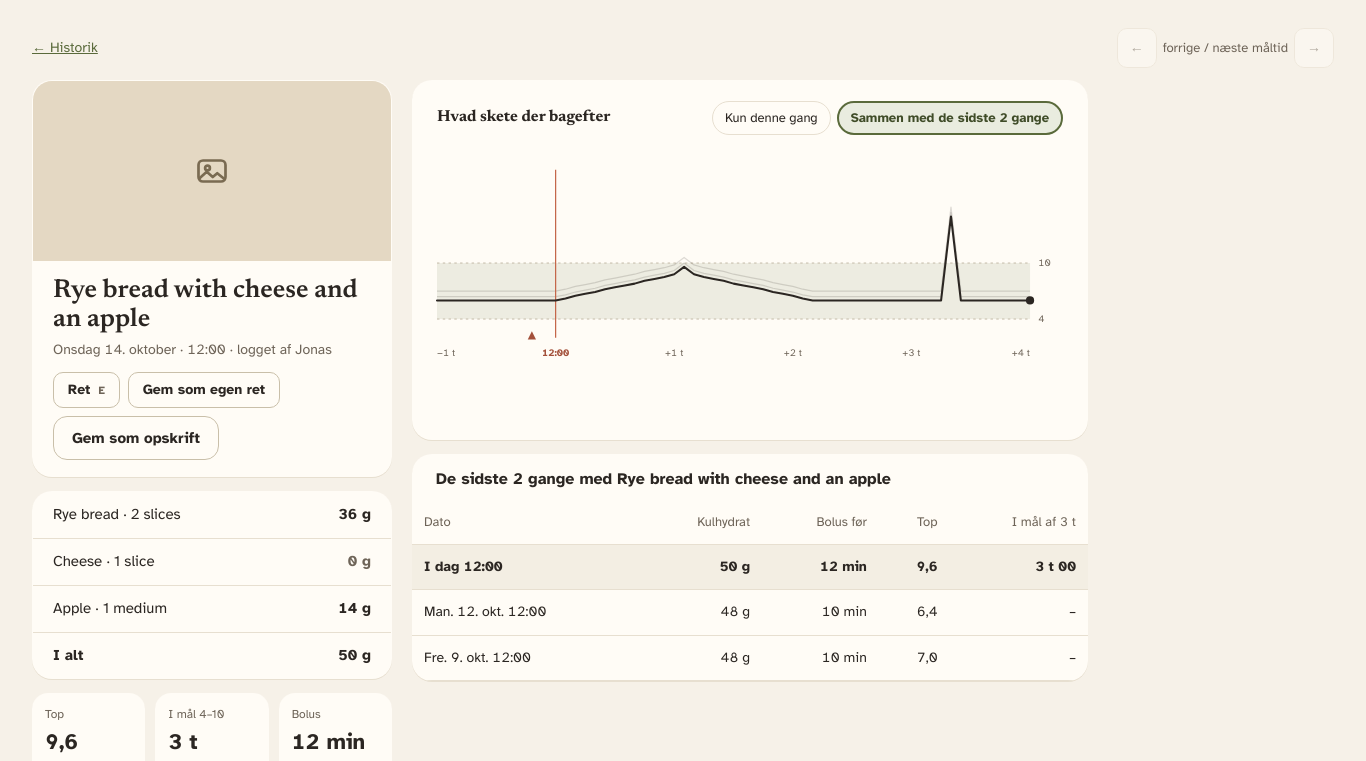
Scenario: edit and delete inside meal detail › desktop: edits current portions, typed carbs, time and note and refreshes detail without navigation
Click the button "Ret E". click: coordinates (86, 390)
box: [53, 372, 120, 408]
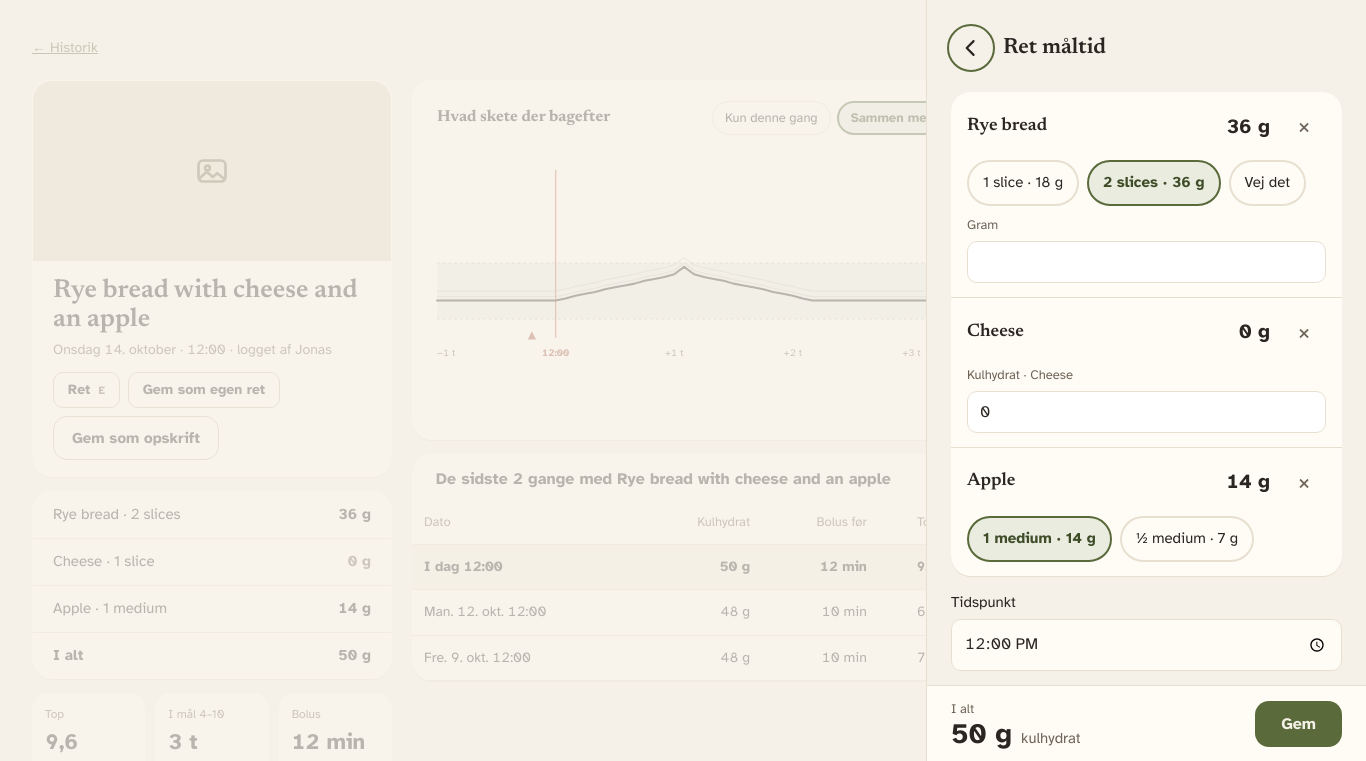
Result: the button named "Tilbage" is shown at [951, 28, 991, 68]
Click the button "½ medium · 7 g". click: coordinates (1187, 539)
box: [1120, 516, 1254, 562]
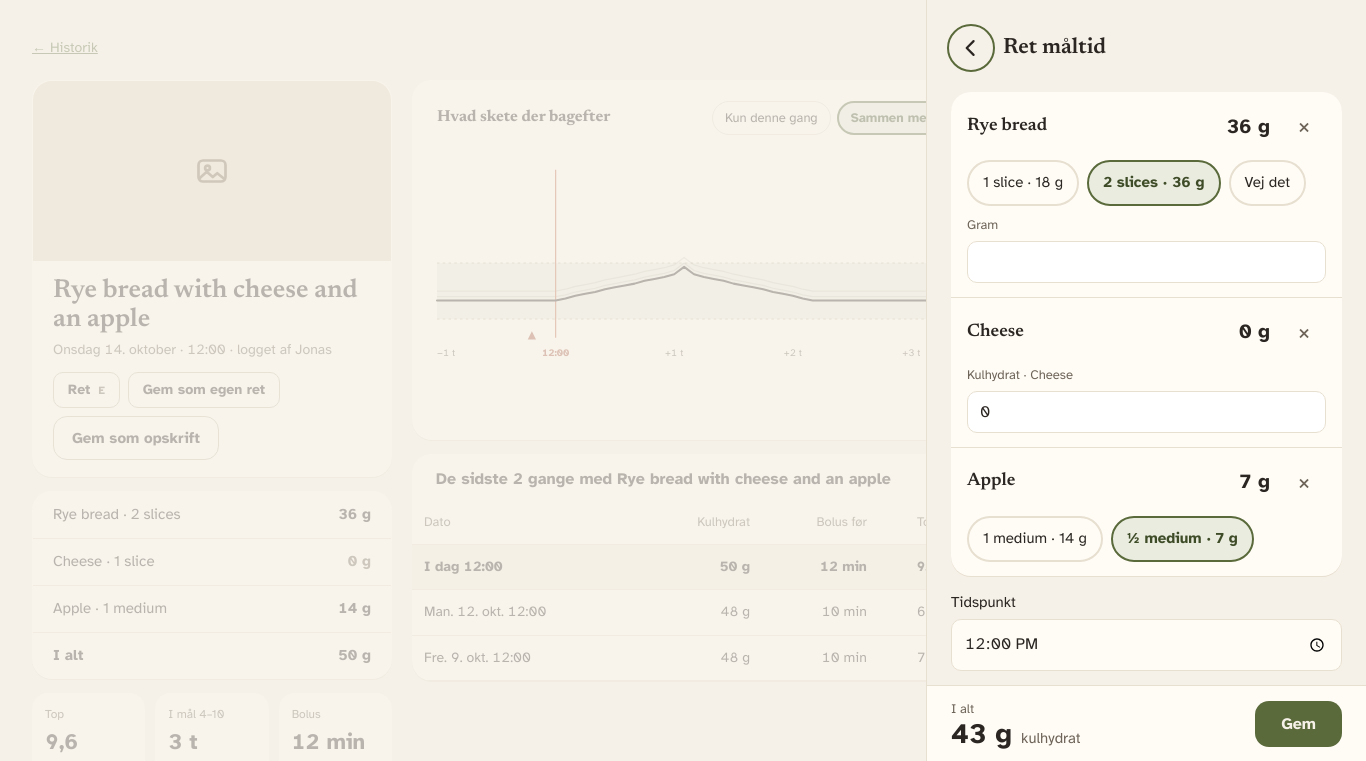
Replace the text in the number field labelled "Kulhydrat · Cheese" with "2". click: coordinates (1146, 412)
box: [967, 391, 1326, 433]
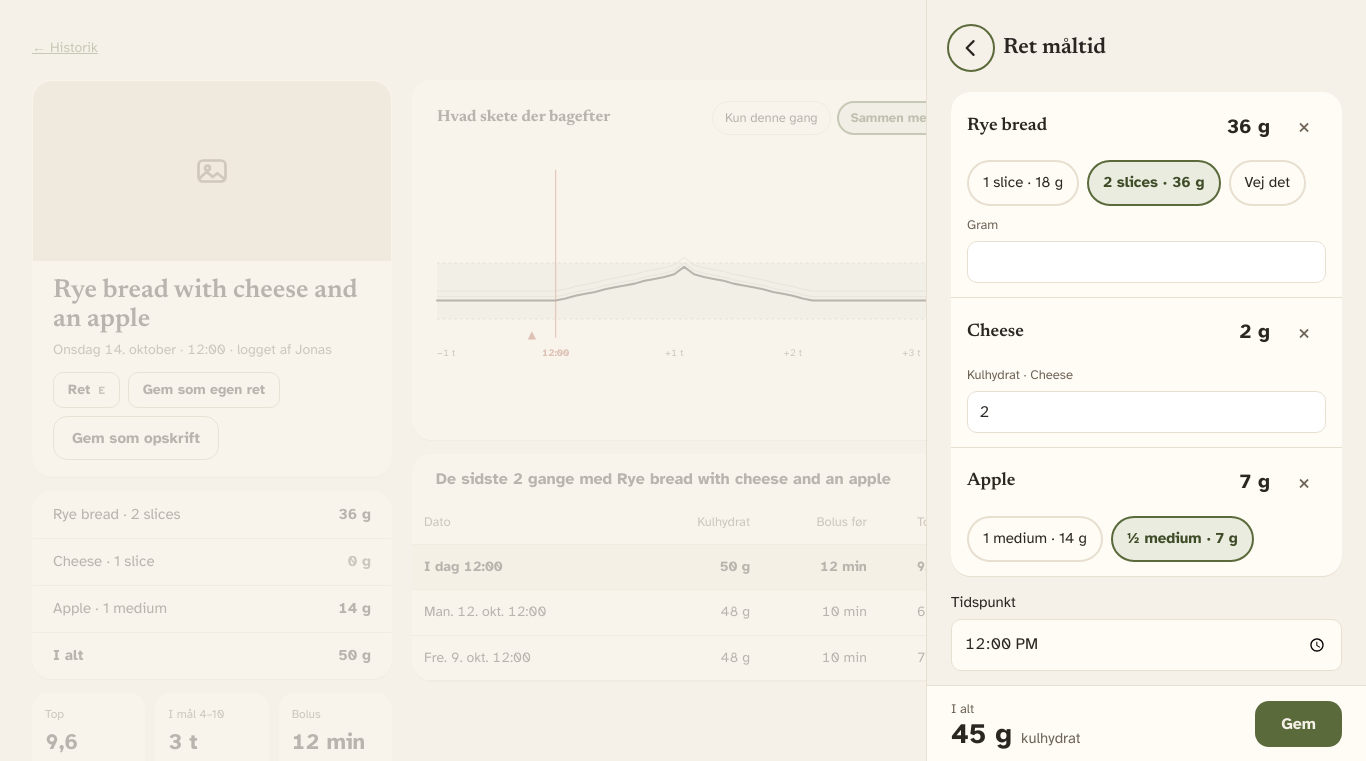
Replace the text in the time field labelled "Tidspunkt" with "11:45". click: coordinates (1146, 645)
box: [951, 619, 1342, 671]
(page scrolled)
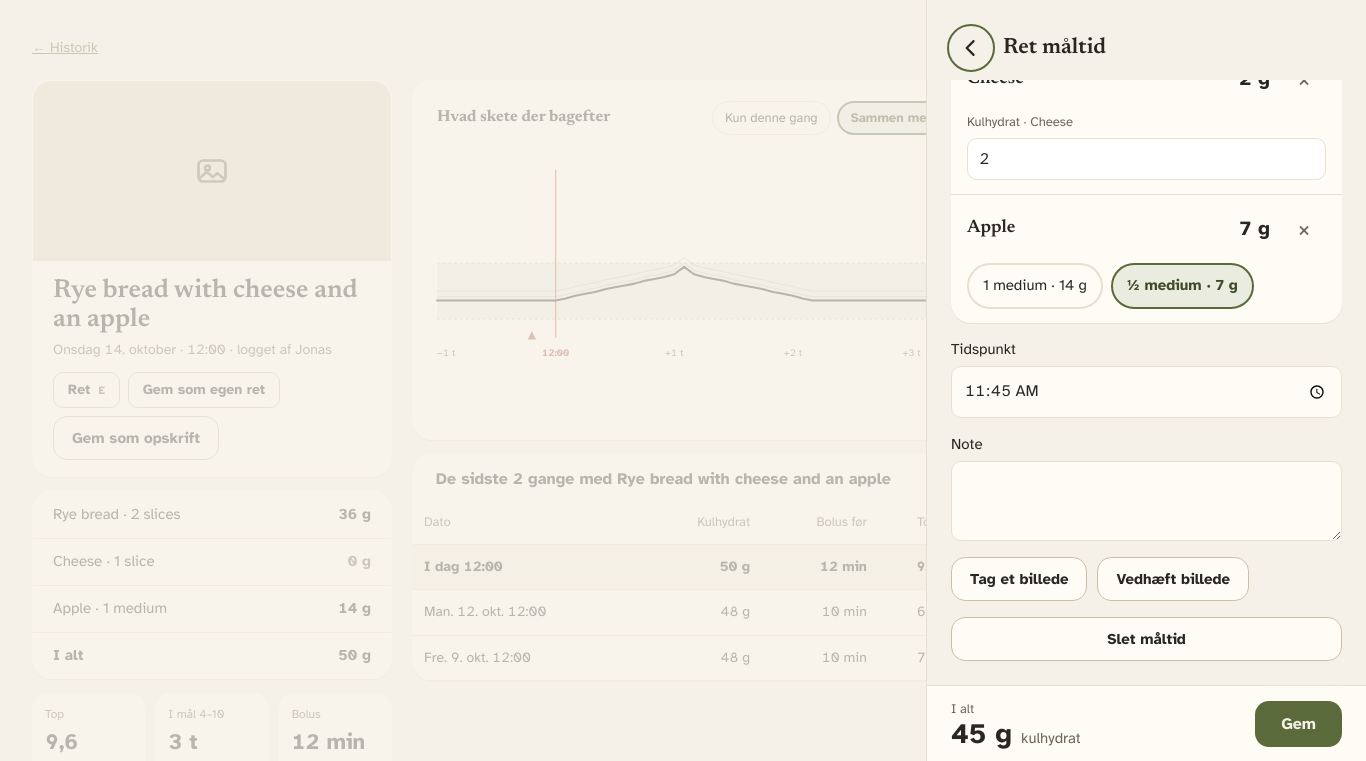
Type "At the park" into the text box labelled "Note". click: coordinates (1146, 501)
box: [951, 461, 1342, 541]
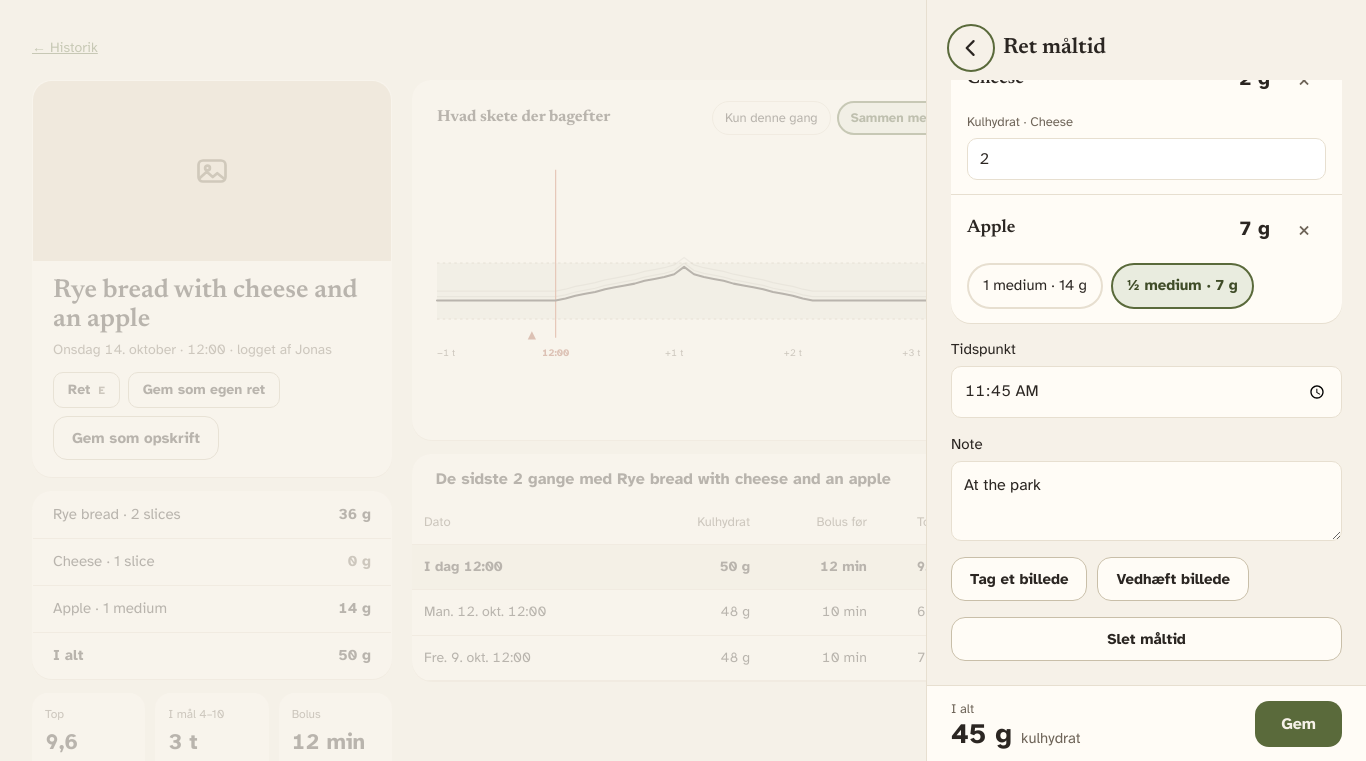
Result: the element with test id "total-bar" shows "45 g" at [951, 716, 1012, 751]
Click the button "Gem". click: coordinates (1299, 724)
box: [1255, 701, 1342, 747]
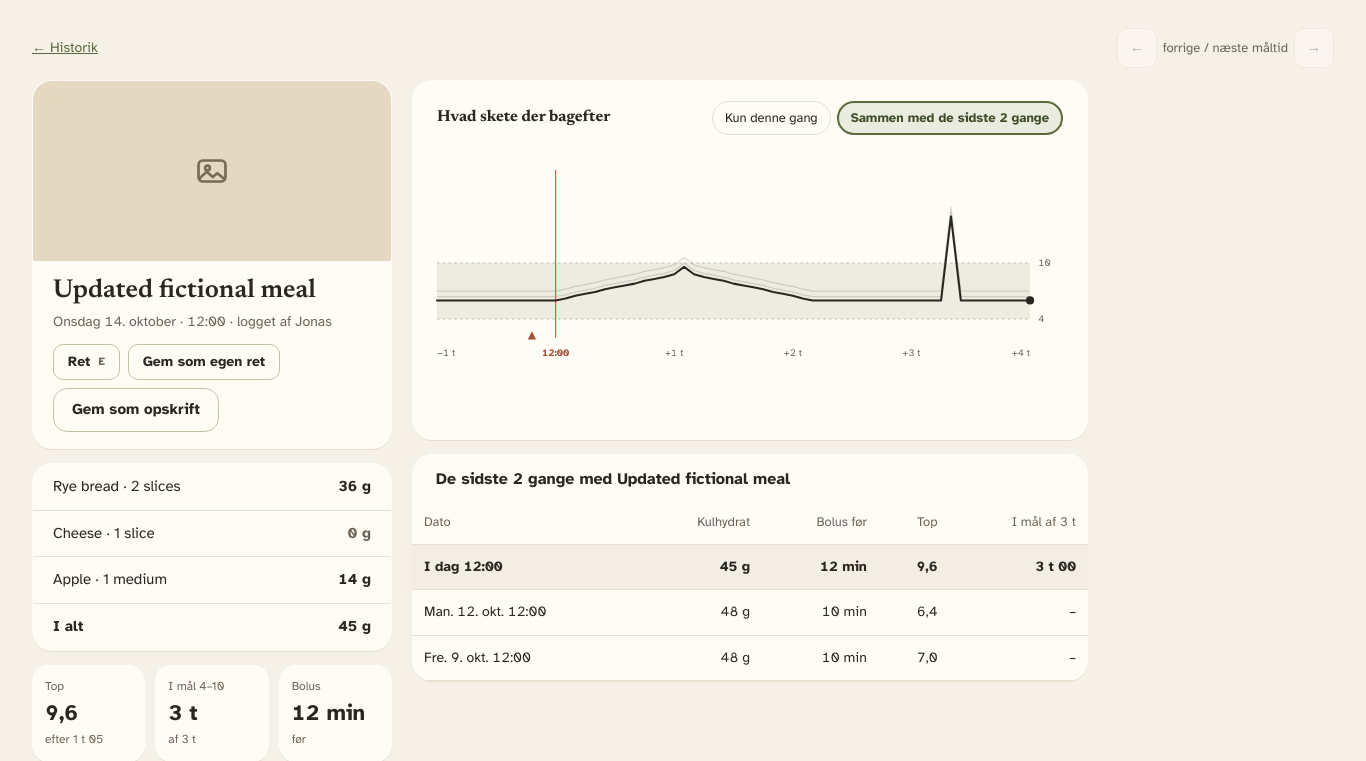
Result: the heading "Updated fictional meal" is shown at [53, 278, 316, 304]
